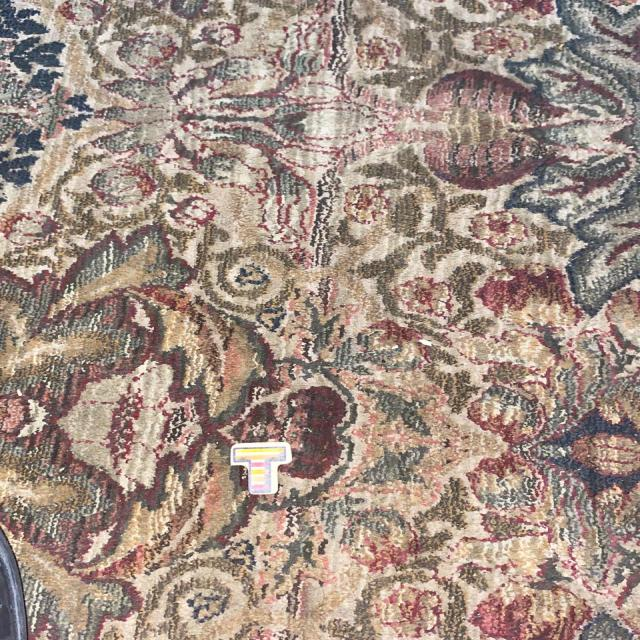T: (231, 442, 291, 494)
